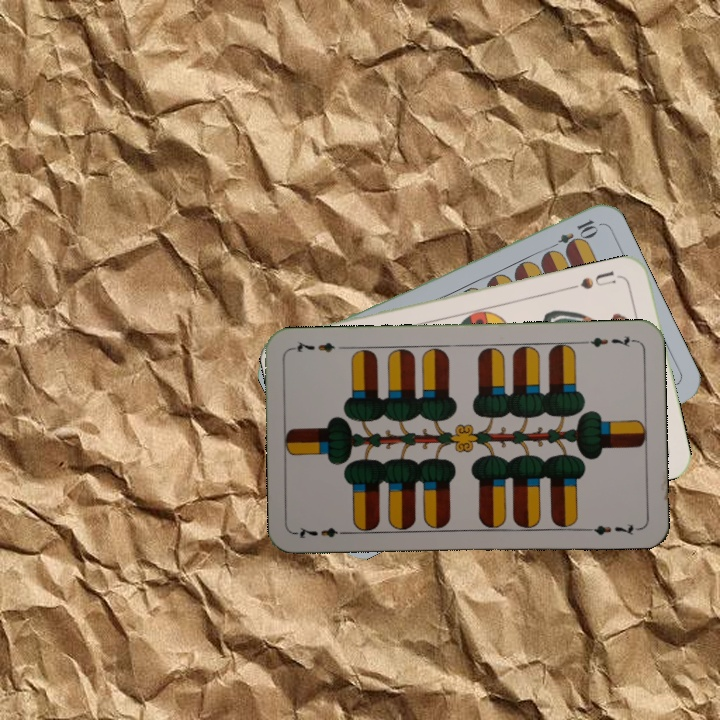E10: (544, 215, 600, 254)
E7: (579, 331, 638, 350), (293, 523, 352, 541)
SU: (566, 267, 625, 292)
